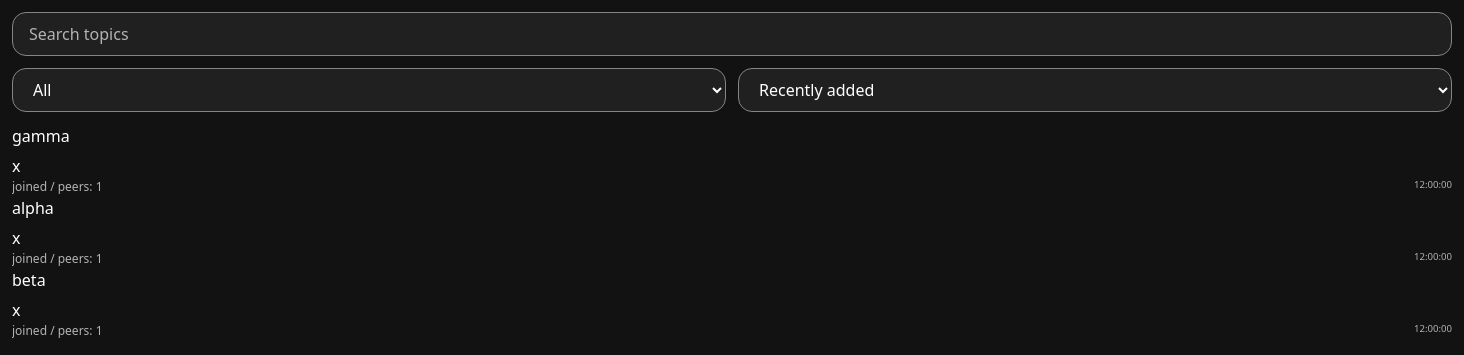
Scenario: shows an empty message when nothing matches
Step 1. Type "no-such-topic" into the search field labelled "Search topics" → x=732, y=34, box [12, 12, 1452, 56]
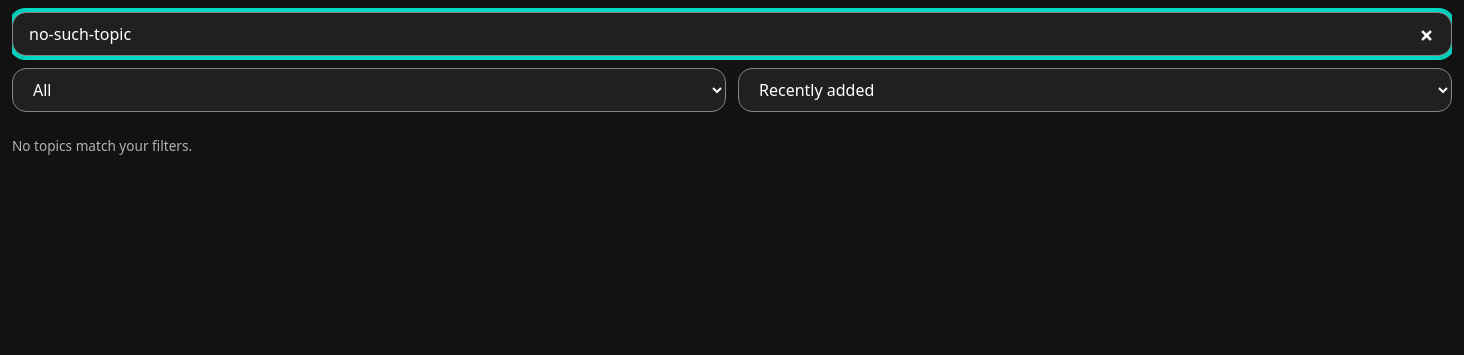
Check: the text "No topics match your filters." is shown, box [12, 136, 192, 155]
